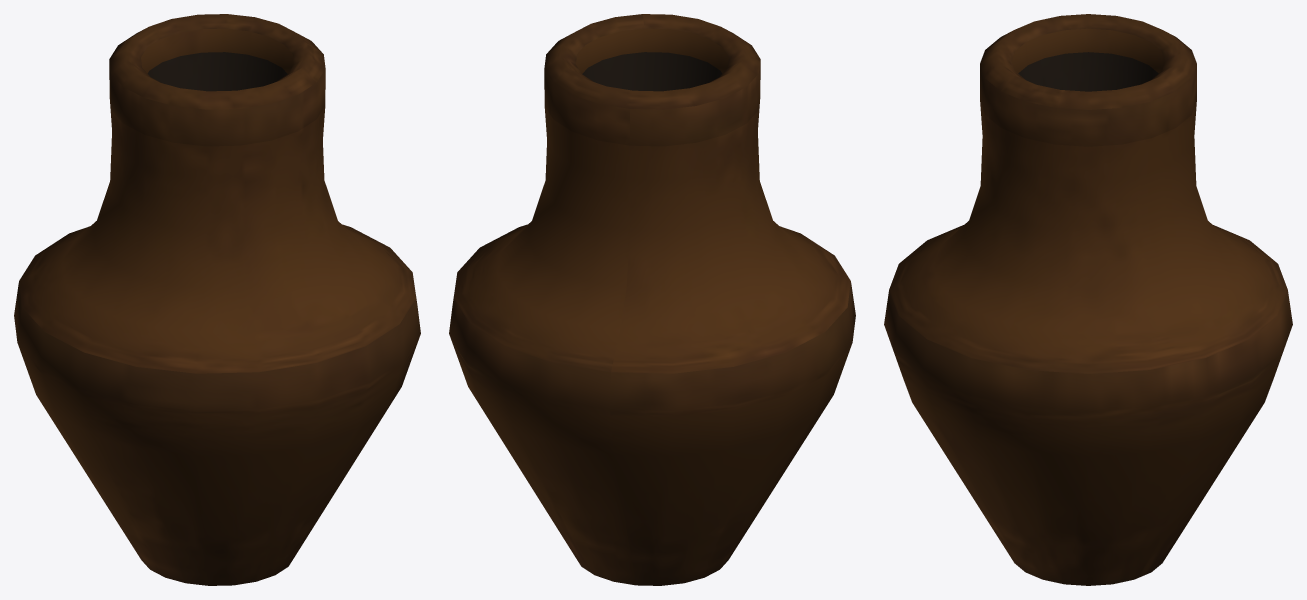
File: quaternius-fantasy-props-vase-4.glb
The picture shows the model from 3 angles, left to right: view 1: azimuth 30°, elevation 25°; view 2: azimuth 150°, elevation 25°; view 3: azimuth 270°, elevation 25°; orthographic projection.
Visible parts, largest first — view 1: Vase_4; view 2: Vase_4; view 3: Vase_4.
Boxes of the visible parts, x1=… form: Vase_4: x1=14, y1=14, x2=420, y2=585; Vase_4: x1=449, y1=14, x2=855, y2=585; Vase_4: x1=884, y1=14, x2=1292, y2=585.
Size of the model in its own units: 0.4445 by 0.6 by 0.4445.
1 material, 1 textured.
